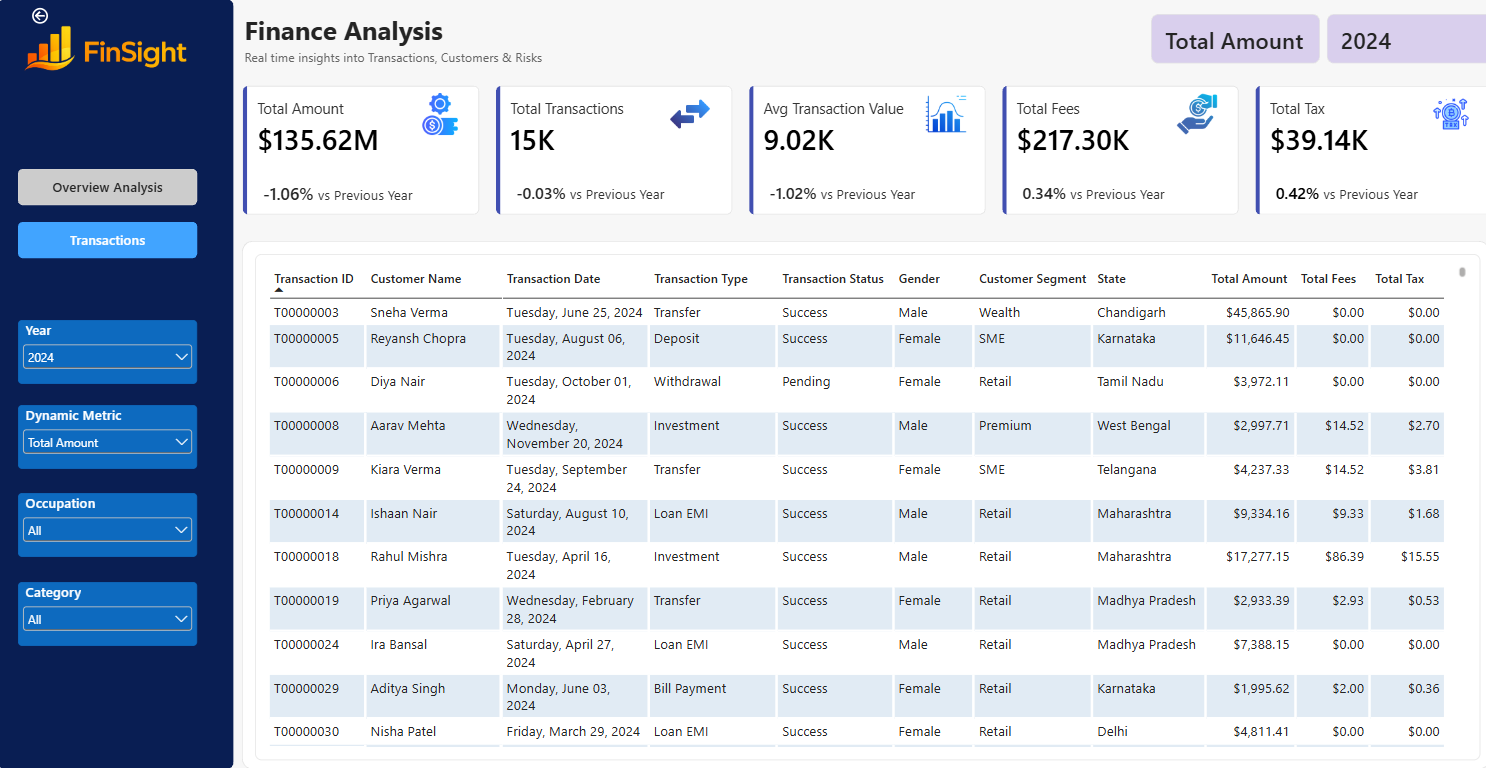

This screenshot's page, from the dashboard's own definition file:
{"tool":"powerbi","page":{"name":"Transactions","canvas":[1800,950],"ordinal":1},"visuals":[{"type":"shape","box":[0,0,280.2,915.8],"z":0},{"type":"image","box":[24.3,17,213.5,84.9],"z":1000},{"type":"cardVisual","fields":{"Data":["finance_transactions.Dashboard Title"]},"box":[276.5,8.5,394.2,78.8],"z":2000},{"type":"cardVisual","fields":{"Data":["finance_transactions.Total Amount","finance_transactions.Total Transactions","finance_transactions.Avg Transaction Value","finance_transactions.Total Fees","finance_transactions.Total Tax"]},"box":[289.9,101.9,1491.9,155],"z":3000},{"type":"image","box":[500.9,111.6,50,50],"z":4000},{"type":"image","box":[798.1,111.6,50,50],"z":5000},{"type":"image","box":[1400.9,111.6,50,50],"z":6000},{"type":"image","box":[1102.6,111.6,50,50],"z":7000},{"type":"image","box":[1703,111.6,50,50],"z":8000},{"type":"shape","box":[289.9,287.5,1483.4,628.3],"z":9000},{"type":"cardVisual","fields":{"Data":["finance_transactions.Selected Dynamic Metric","finance_transactions.Selected Year"]},"box":[1370.6,18.2,411.2,59.4],"z":10000},{"type":"tableEx","fields":{"Values":["finance_transactions.transaction_id","customers.customer_name","finance_transactions.transaction_date","finance_transactions.transaction_type","finance_transactions.transaction_status","customers.gender","customers.customer_segment","customers.state","finance_transactions.Total Amount","finance_transactions.Total Fees","finance_transactions.Total Tax"]},"box":[305.7,303.2,1456.7,601.6],"z":11000},{"type":"actionButton","box":[0,0,100,40],"z":12000},{"type":"slicer","fields":{"Values":["Calendar Table.Year"]},"box":[24.3,382.1,213.5,76.4],"z":13000},{"type":"slicer","fields":{"Values":["Dynamic Metric.Dynamic Metric"]},"box":[24.3,482.7,213.5,76],"z":14000},{"type":"slicer","fields":{"Values":["customers.occupation"]},"box":[24.3,587.1,213,76.4],"z":15000},{"type":"slicer","fields":{"Values":["finance_transactions.merchant_category"]},"box":[24.3,692.6,213,76.4],"z":16000},{"type":"pageNavigator","box":[24.3,202.6,213.5,108],"z":17000}]}

Visuals, with their boxes in screenshot pixels (x1, y1, x2, y2), scaled from the page's 1800x950 canvas onto the 1486x768 screenshot:
shape: bbox(0, 0, 231, 740)
image: bbox(20, 14, 196, 82)
cardVisual - finance_transactions.Dashboard Title: bbox(228, 7, 554, 71)
cardVisual - finance_transactions.Total Amount x finance_transactions.Total Transactions: bbox(239, 82, 1471, 208)
image: bbox(414, 90, 455, 131)
image: bbox(659, 90, 700, 131)
image: bbox(1157, 90, 1198, 131)
image: bbox(910, 90, 952, 131)
image: bbox(1406, 90, 1447, 131)
shape: bbox(239, 232, 1464, 740)
cardVisual - finance_transactions.Selected Dynamic Metric x finance_transactions.Selected Year: bbox(1132, 15, 1471, 63)
tableEx - finance_transactions.transaction_id x customers.customer_name: bbox(252, 245, 1455, 731)
actionButton: bbox(0, 0, 83, 32)
slicer - Calendar Table.Year: bbox(20, 309, 196, 371)
slicer - Dynamic Metric.Dynamic Metric: bbox(20, 390, 196, 452)
slicer - customers.occupation: bbox(20, 475, 196, 536)
slicer - finance_transactions.merchant_category: bbox(20, 560, 196, 622)
pageNavigator: bbox(20, 164, 196, 251)
